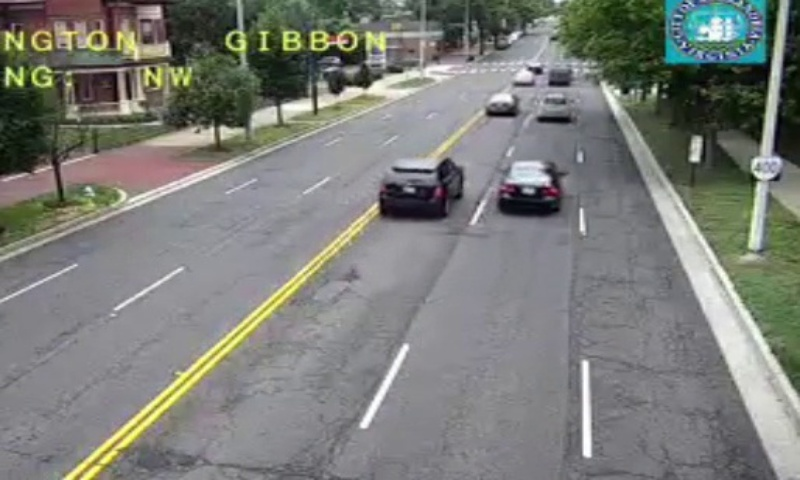car: (378, 157, 463, 211), (498, 160, 561, 211), (537, 94, 570, 120), (485, 93, 518, 115)
